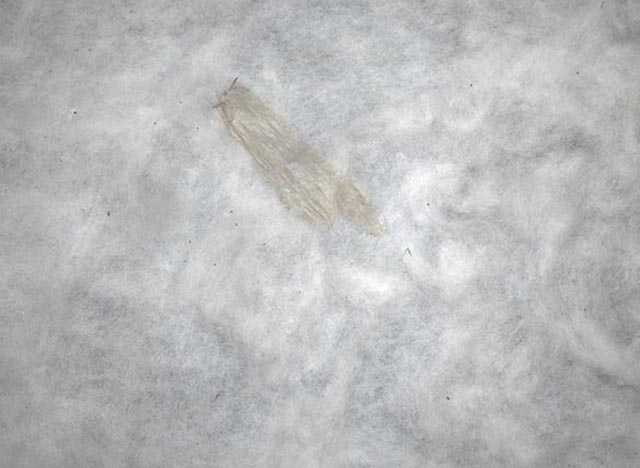plastic film: (209, 76, 389, 236)
